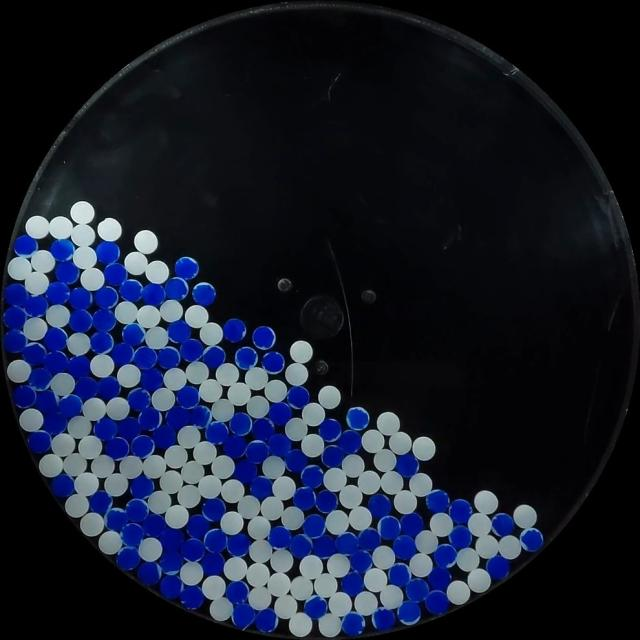pmmma-azul: (34, 389, 60, 416), (424, 589, 449, 615), (485, 554, 510, 580), (518, 527, 544, 552), (336, 531, 360, 558), (50, 473, 75, 498), (231, 603, 256, 628), (43, 327, 68, 352), (348, 549, 373, 574), (22, 341, 47, 366), (57, 394, 83, 418), (152, 424, 176, 450), (12, 384, 38, 408), (448, 524, 472, 550), (433, 543, 457, 569), (54, 260, 80, 284), (234, 458, 258, 484), (179, 586, 205, 610), (255, 418, 279, 444), (130, 474, 154, 499), (176, 385, 201, 409), (138, 406, 162, 431), (4, 282, 28, 307), (74, 375, 99, 399), (4, 328, 28, 353), (116, 546, 141, 570), (338, 429, 362, 454), (254, 608, 278, 633), (66, 354, 90, 379), (4, 305, 28, 330), (69, 308, 93, 333), (103, 262, 128, 286), (448, 498, 472, 523), (292, 486, 316, 511), (141, 282, 166, 306), (95, 240, 120, 264), (203, 528, 227, 553), (28, 368, 53, 392), (378, 515, 402, 540), (426, 566, 451, 590), (187, 403, 212, 427), (142, 513, 166, 538), (164, 277, 190, 300), (160, 574, 183, 600), (122, 322, 146, 346), (202, 345, 226, 369), (286, 385, 310, 409), (268, 401, 292, 425), (111, 342, 135, 366), (229, 412, 253, 436), (245, 440, 269, 464), (130, 434, 154, 458), (68, 287, 92, 311), (392, 534, 416, 558), (181, 538, 205, 562), (94, 417, 118, 441), (268, 525, 292, 549), (225, 580, 249, 604), (24, 294, 48, 318), (252, 326, 276, 350), (249, 476, 273, 500), (46, 281, 70, 305), (128, 388, 152, 412), (92, 309, 116, 333), (44, 350, 68, 374), (140, 368, 164, 392), (399, 512, 423, 536), (318, 418, 342, 442), (167, 320, 191, 344), (125, 498, 149, 522), (223, 434, 247, 458), (89, 490, 113, 514), (302, 514, 326, 538), (137, 561, 161, 585), (96, 376, 120, 400), (397, 600, 421, 624), (201, 551, 225, 575), (395, 453, 419, 477), (490, 512, 514, 536), (175, 256, 199, 280), (405, 578, 429, 602), (44, 412, 68, 436), (425, 489, 449, 513), (346, 406, 370, 430), (118, 417, 142, 441), (341, 571, 364, 596), (368, 493, 391, 518), (267, 433, 290, 458), (119, 279, 144, 302), (388, 562, 411, 587), (50, 239, 75, 262), (105, 436, 130, 459), (187, 514, 210, 539), (13, 234, 38, 257), (192, 282, 217, 305), (202, 498, 225, 522), (180, 338, 203, 362), (28, 430, 52, 453), (301, 464, 324, 488), (289, 534, 312, 558), (90, 331, 114, 354), (357, 527, 380, 551), (94, 286, 118, 309), (156, 346, 180, 369), (341, 612, 365, 635), (284, 448, 307, 472), (226, 533, 250, 556), (312, 534, 336, 557), (120, 522, 144, 545), (105, 507, 128, 531), (133, 346, 157, 369), (372, 607, 395, 631), (262, 351, 285, 374), (223, 318, 246, 341), (235, 346, 258, 369), (322, 444, 344, 468), (315, 489, 337, 513), (206, 421, 228, 444), (304, 596, 327, 618), (164, 408, 187, 430), (159, 552, 181, 575), (162, 530, 186, 550)
